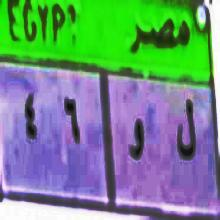4: (23, 88, 39, 144)
6: (64, 94, 80, 146)
laam: (175, 95, 197, 169)
waw: (126, 113, 147, 167)
